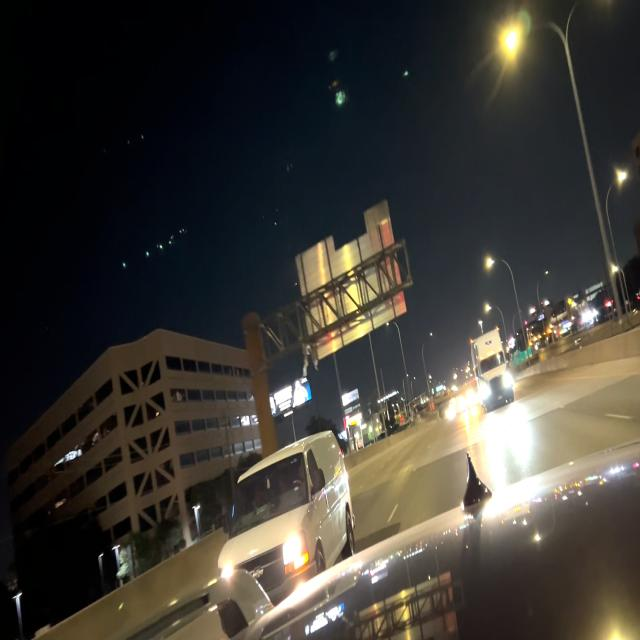back-of-sign: (294, 199, 406, 361)
